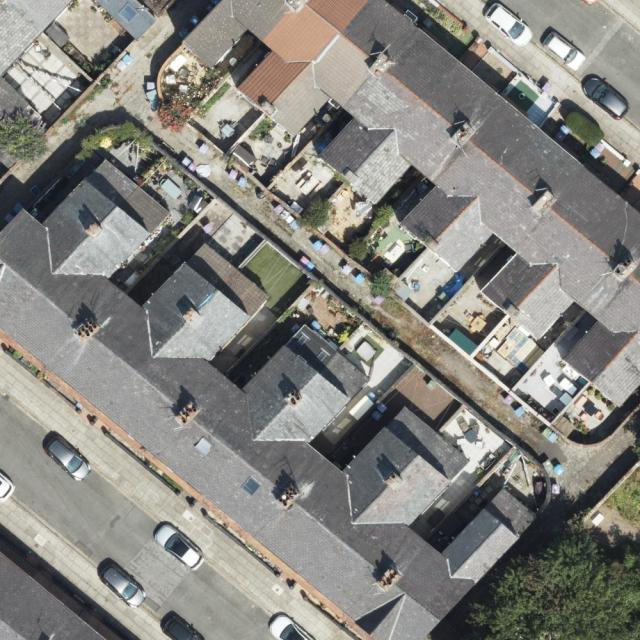roof: (0, 158, 539, 640), (180, 0, 640, 410), (0, 0, 78, 168), (0, 552, 108, 640), (94, 0, 155, 41)
skylight: (241, 474, 264, 498), (116, 1, 140, 24), (192, 435, 216, 457), (295, 331, 311, 346), (315, 349, 330, 363)
